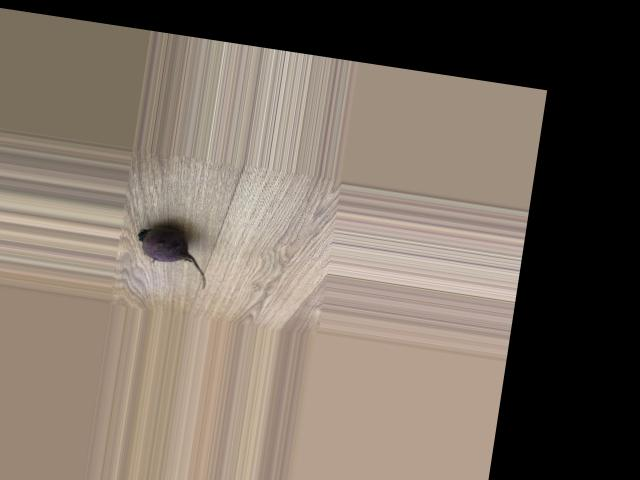beet: (133, 223, 215, 289)
